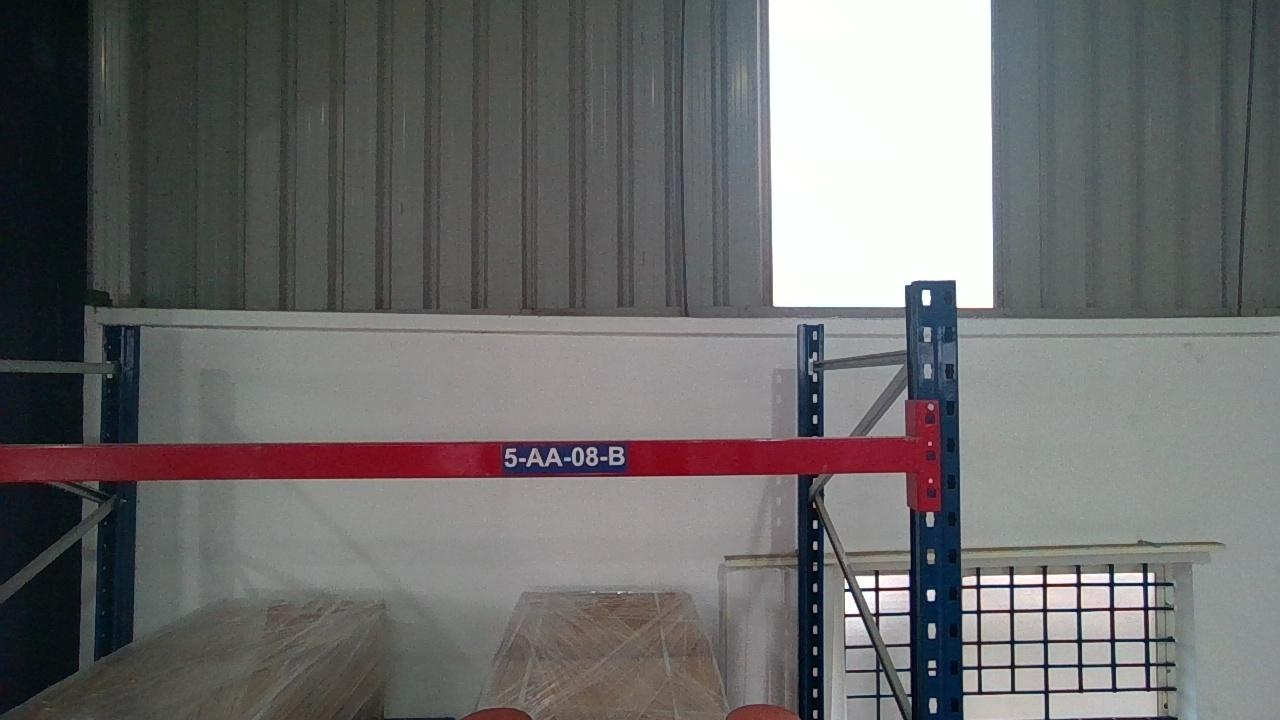h_rack: (0, 439, 917, 480)
